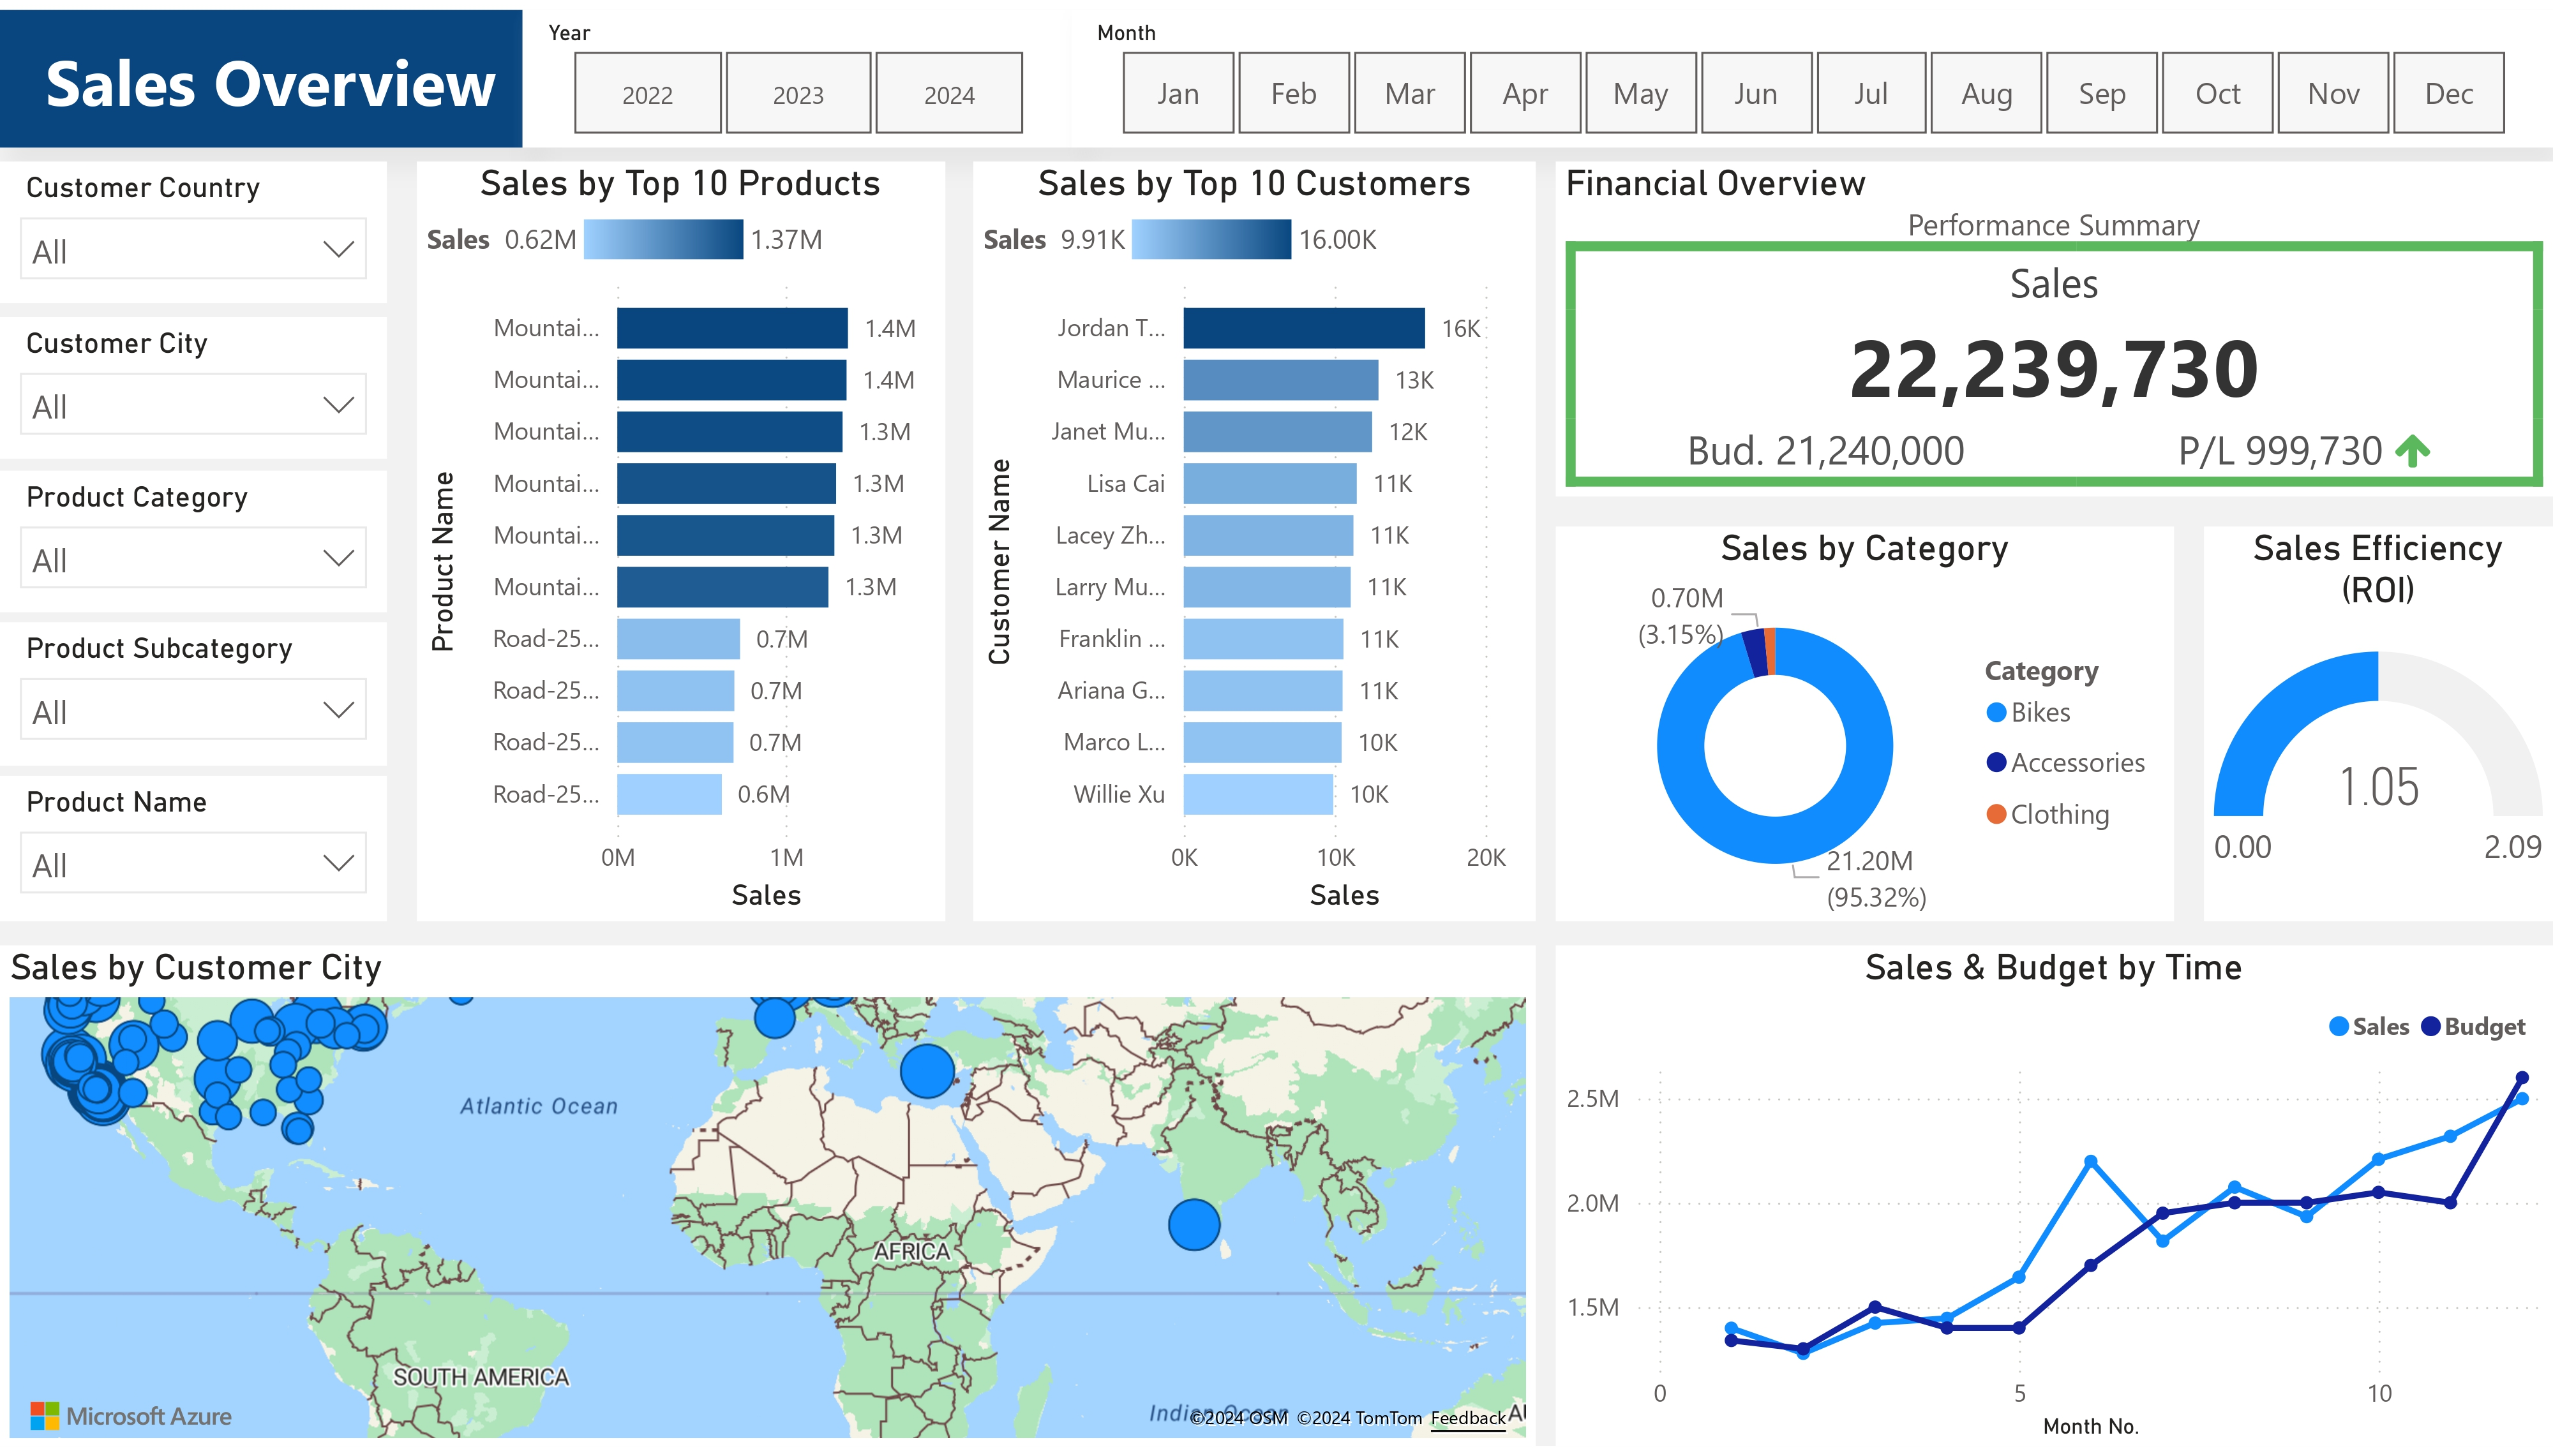

The page's visual inventory and layout, read from the dashboard file:
{"tool":"powerbi","page":{"name":"Sales Overview","canvas":[1280,720],"ordinal":0},"visuals":[{"type":"textbox","box":[0,0,262.1,69.1],"z":0},{"type":"slicer","fields":{"Values":["DIM_Customer.Customer Country"]},"box":[0,76.4,194,70.5],"z":1000},{"type":"slicer","fields":{"Values":["DIM_Customer.Customer City"]},"box":[0,154.3,194,70.5],"z":2000},{"type":"slicer","fields":{"Values":["DIM_Products.Product Name"]},"box":[0,383.6,194,73.5],"z":3000},{"type":"slicer","fields":{"Values":["DIM_Products.Product Category Name"]},"box":[0,230.7,194,70.5],"z":4000},{"type":"slicer","fields":{"Values":["DIM_Products.Product Subcategory Name"]},"box":[0,307.1,194,72],"z":5000},{"type":"slicer","fields":{"Values":["DIM_Calendar.Year"]},"box":[262.1,0,275,69.1],"z":6000},{"type":"slicer","fields":{"Values":["DIM_Calendar.MonthShort"]},"box":[537.1,0,743,69.1],"z":7000},{"type":"BBED0A4D4D8D44CE93CF2DAFADEE466C","title":"Financial Overview","fields":{"actual":["Key Measures.Sales"],"target1":["Key Measures.Budget Amount"],"target2":["Key Measures.Profit & Loss"]},"box":[204.5,76.3,499.7,167],"z":8000},{"type":"donutChart","fields":{"Category":["DIM_Products.Product Category Name"],"Y":["Key Measures.Sales"]},"box":[204.5,257.8,309.6,197.3],"z":9000},{"type":"lineChart","title":"Sales & Budget by Time","fields":{"Y":["Key Measures.Sales","Key Measures.Budget Amount"],"Category":["DIM_Calendar.Month No."]},"box":[0,469.4,499.7,250.6],"z":10000},{"type":"gauge","fields":{"Y":["Key Measures.Sales Efficiency (ROI)"]},"box":[528.5,257.8,175.7,197.3],"z":12000},{"type":"clusteredBarChart","title":"Sales by Top 10 Customers","fields":{"Category":["DIM_Customer.Full Name"],"Y":["Key Measures.Sales"]},"box":[997.7,74.9,282.2,380.2],"z":13000},{"type":"clusteredBarChart","title":"Sales by Top 10 Products","fields":{"Y":["Key Measures.Sales"],"Category":["DIM_Products.Product Name"]},"box":[718.6,74.9,265,380.2],"z":14000},{"type":"map","fields":{"Category":["DIM_Customer.Customer City"],"Size":["Key Measures.Sales"]},"box":[514.1,469.4,766.1,250.6],"z":14001}]}

Visuals, with their boxes in screenshot pixels (x1, y1, x2, y2), scaled from the page's 1280x720 canvas onto the 2553x1456 screenshot:
textbox: x1=0 y1=0 x2=523 y2=140
slicer - DIM_Customer.Customer Country: x1=0 y1=154 x2=387 y2=297
slicer - DIM_Customer.Customer City: x1=0 y1=312 x2=387 y2=454
slicer - DIM_Products.Product Name: x1=0 y1=776 x2=387 y2=925
slicer - DIM_Products.Product Category Name: x1=0 y1=466 x2=387 y2=609
slicer - DIM_Products.Product Subcategory Name: x1=0 y1=621 x2=387 y2=767
slicer - DIM_Calendar.Year: x1=523 y1=0 x2=1071 y2=140
slicer - DIM_Calendar.MonthShort: x1=1071 y1=0 x2=2552 y2=140
"Financial Overview" BBED0A4D4D8D44CE93CF2DAFADEE466C: x1=408 y1=154 x2=1405 y2=492
donutChart - DIM_Products.Product Category Name x Key Measures.Sales: x1=408 y1=521 x2=1026 y2=920
"Sales & Budget by Time" lineChart: x1=0 y1=949 x2=997 y2=1455
gauge - Key Measures.Sales Efficiency (ROI): x1=1054 y1=521 x2=1405 y2=920
"Sales by Top 10 Customers" clusteredBarChart: x1=1990 y1=151 x2=2552 y2=920
"Sales by Top 10 Products" clusteredBarChart: x1=1434 y1=151 x2=1962 y2=920
map - DIM_Customer.Customer City x Key Measures.Sales: x1=1026 y1=949 x2=2552 y2=1455
